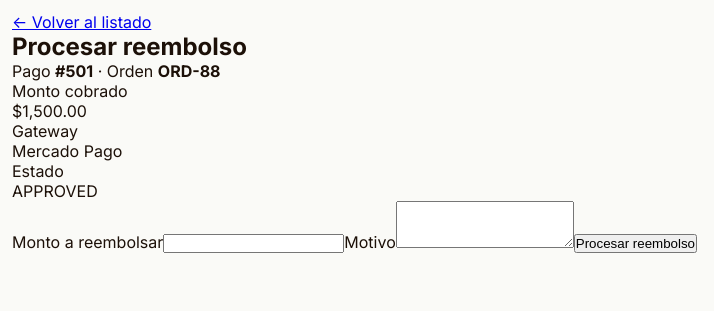
Scenario: AdminPaymentRefundPage (UC-PAY-09) › rechaza monto mayor al pago
This screenshot has width=714, height=311.
Expected: the heading "Procesar reembolso" is shown, left=12, top=32, right=247, bottom=61
Type "2000" into the number field labelled "Monto a reembolsar". click: (254, 244)
box: left=163, top=234, right=344, bottom=253
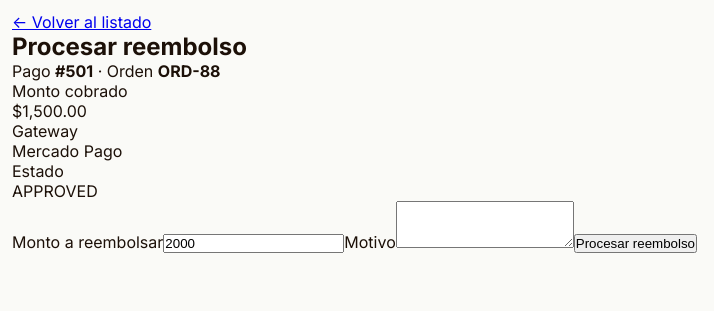
Type "Test refund completo" into the text box labelled "Motivo". click: (485, 224)
box: left=396, top=201, right=574, bottom=248
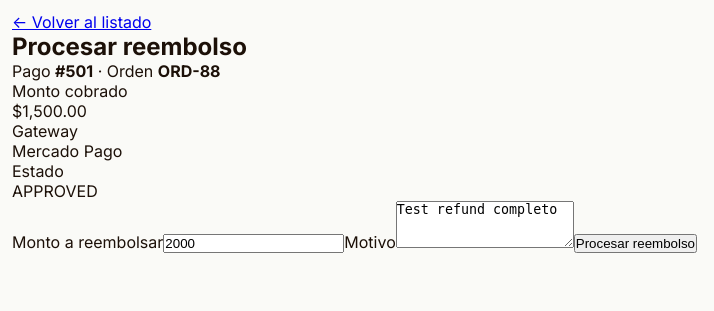
Click the button "Procesar reembolso". click: (635, 244)
box: left=574, top=234, right=697, bottom=253
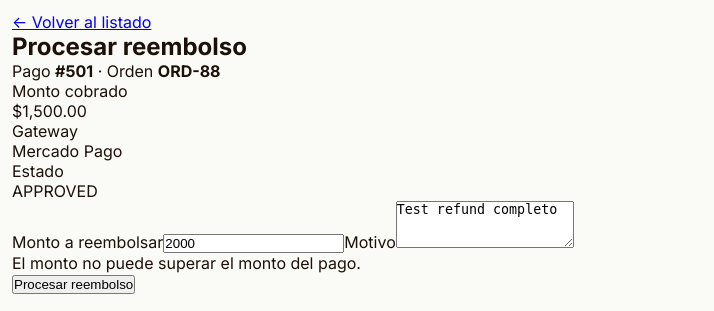
Result: the text "El monto no puede superar el monto del pago." is shown at left=12, top=253, right=361, bottom=273
